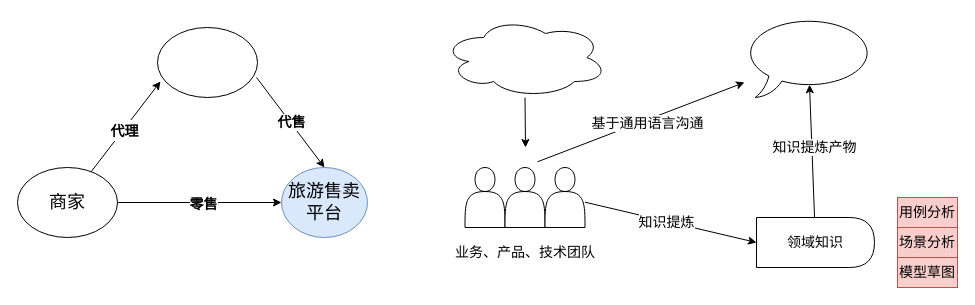
Some shapes in this 975 by 305 pixel diagram are drawn without their labels. The shapes that lost their labels are listed below. From the top down, each one's centre as x and y in pixels, then its label:
At point 207,62: "同程旅行".
At point 525,57: "问题域+业务愿景".
At point 809,57: "通用语言".
